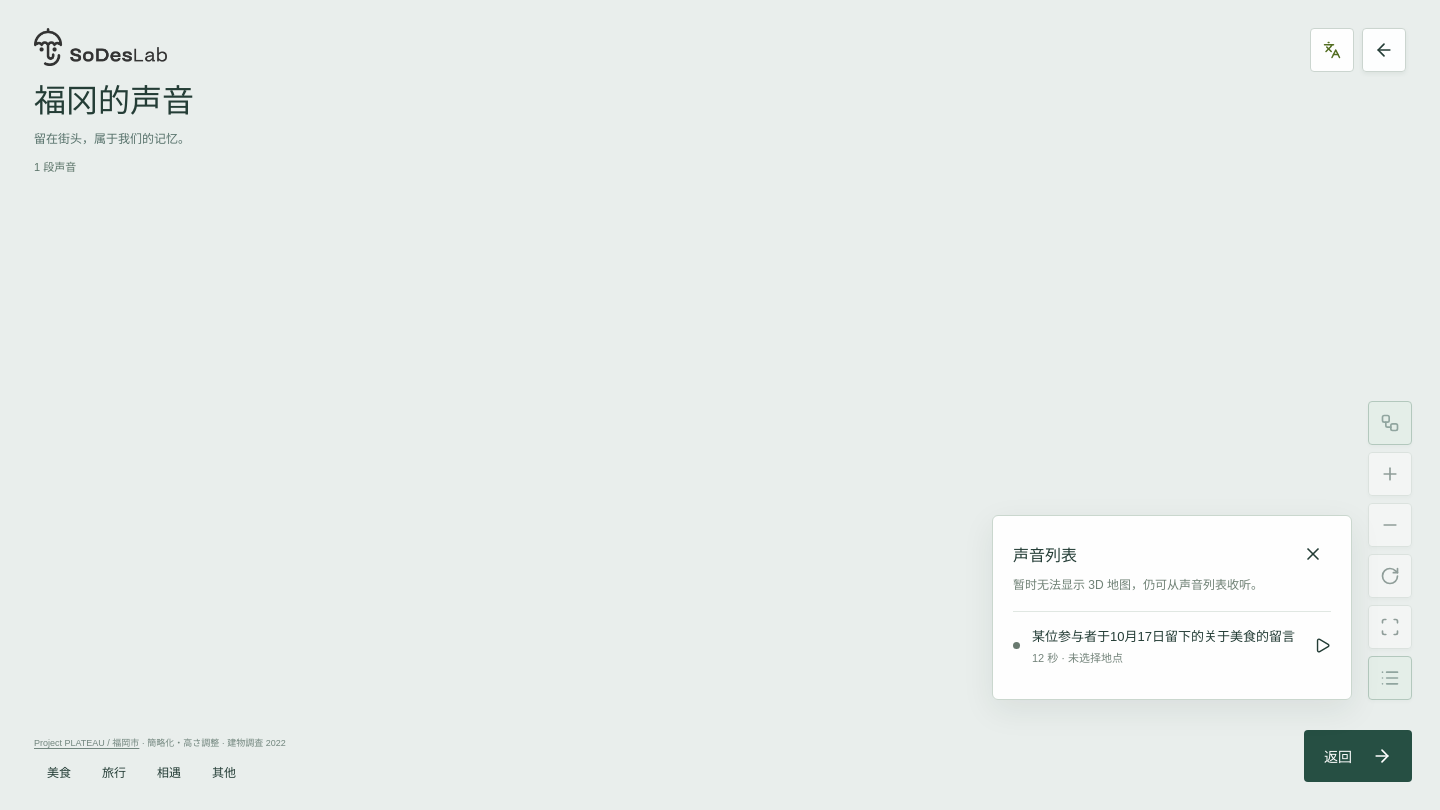
Test: uses a human description in the list and player, never the internal tag number
Click the button "某位参与者于10月17日留下的关于美食的留言 12 秒 · 未选择地点": {"x": 1172, "y": 645} [1013, 611, 1331, 679]
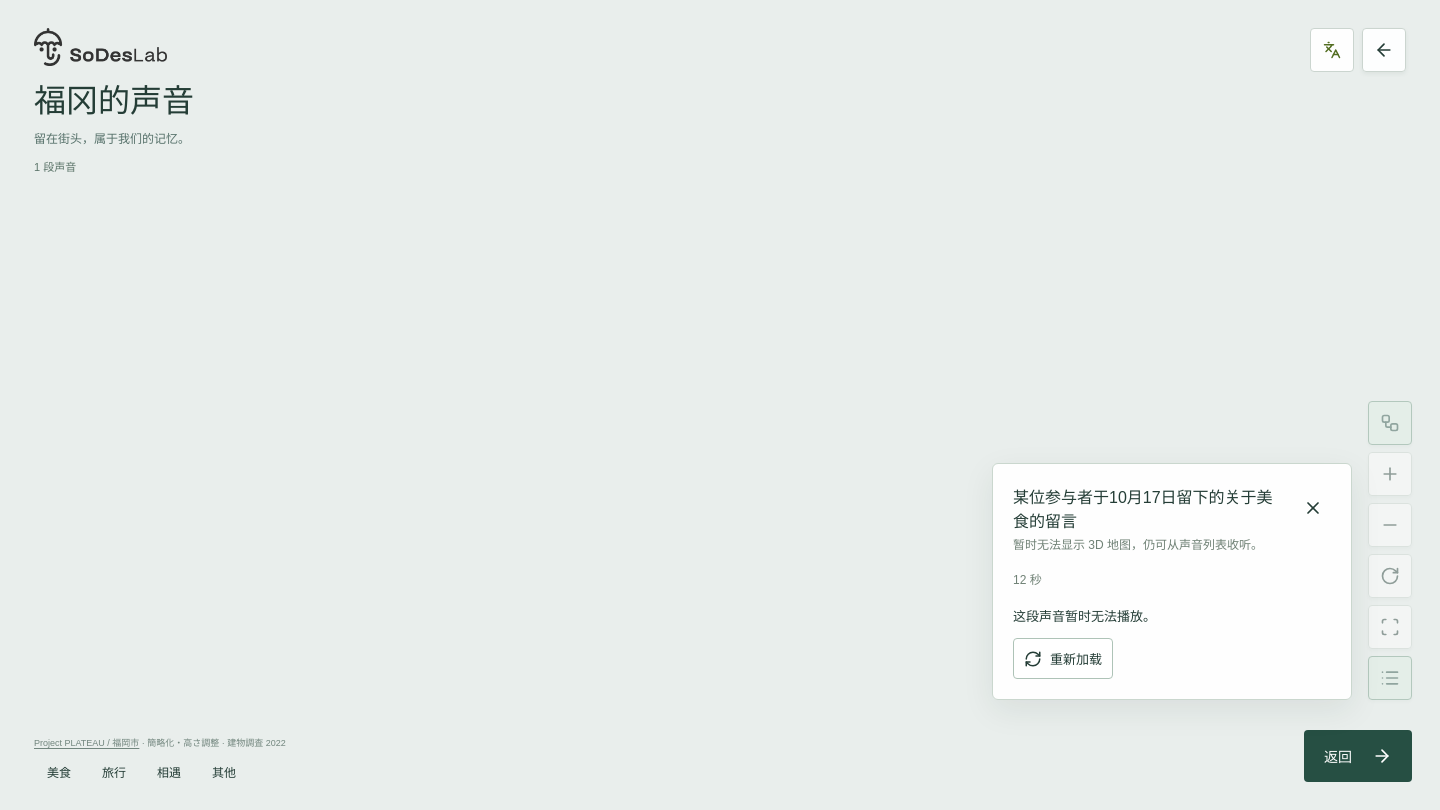
Result: the heading "某位参与者于10月17日留下的关于美食的留言" is shown at [1013, 484, 1283, 532]
